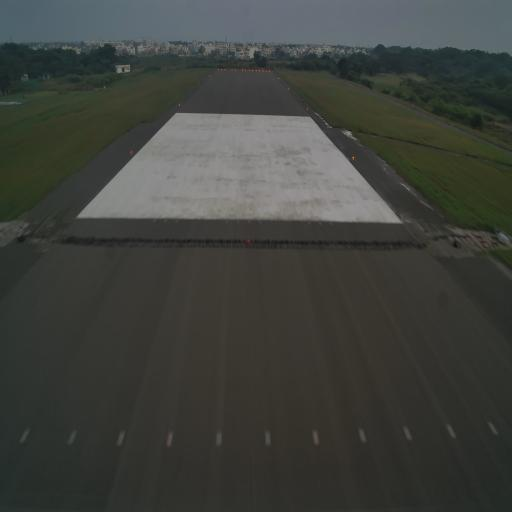off: (67, 426, 80, 449), (262, 426, 274, 448), (487, 418, 498, 438), (399, 427, 412, 443), (355, 430, 367, 446), (117, 429, 127, 447), (215, 430, 223, 450)
on: (164, 426, 176, 446), (310, 429, 320, 448)
